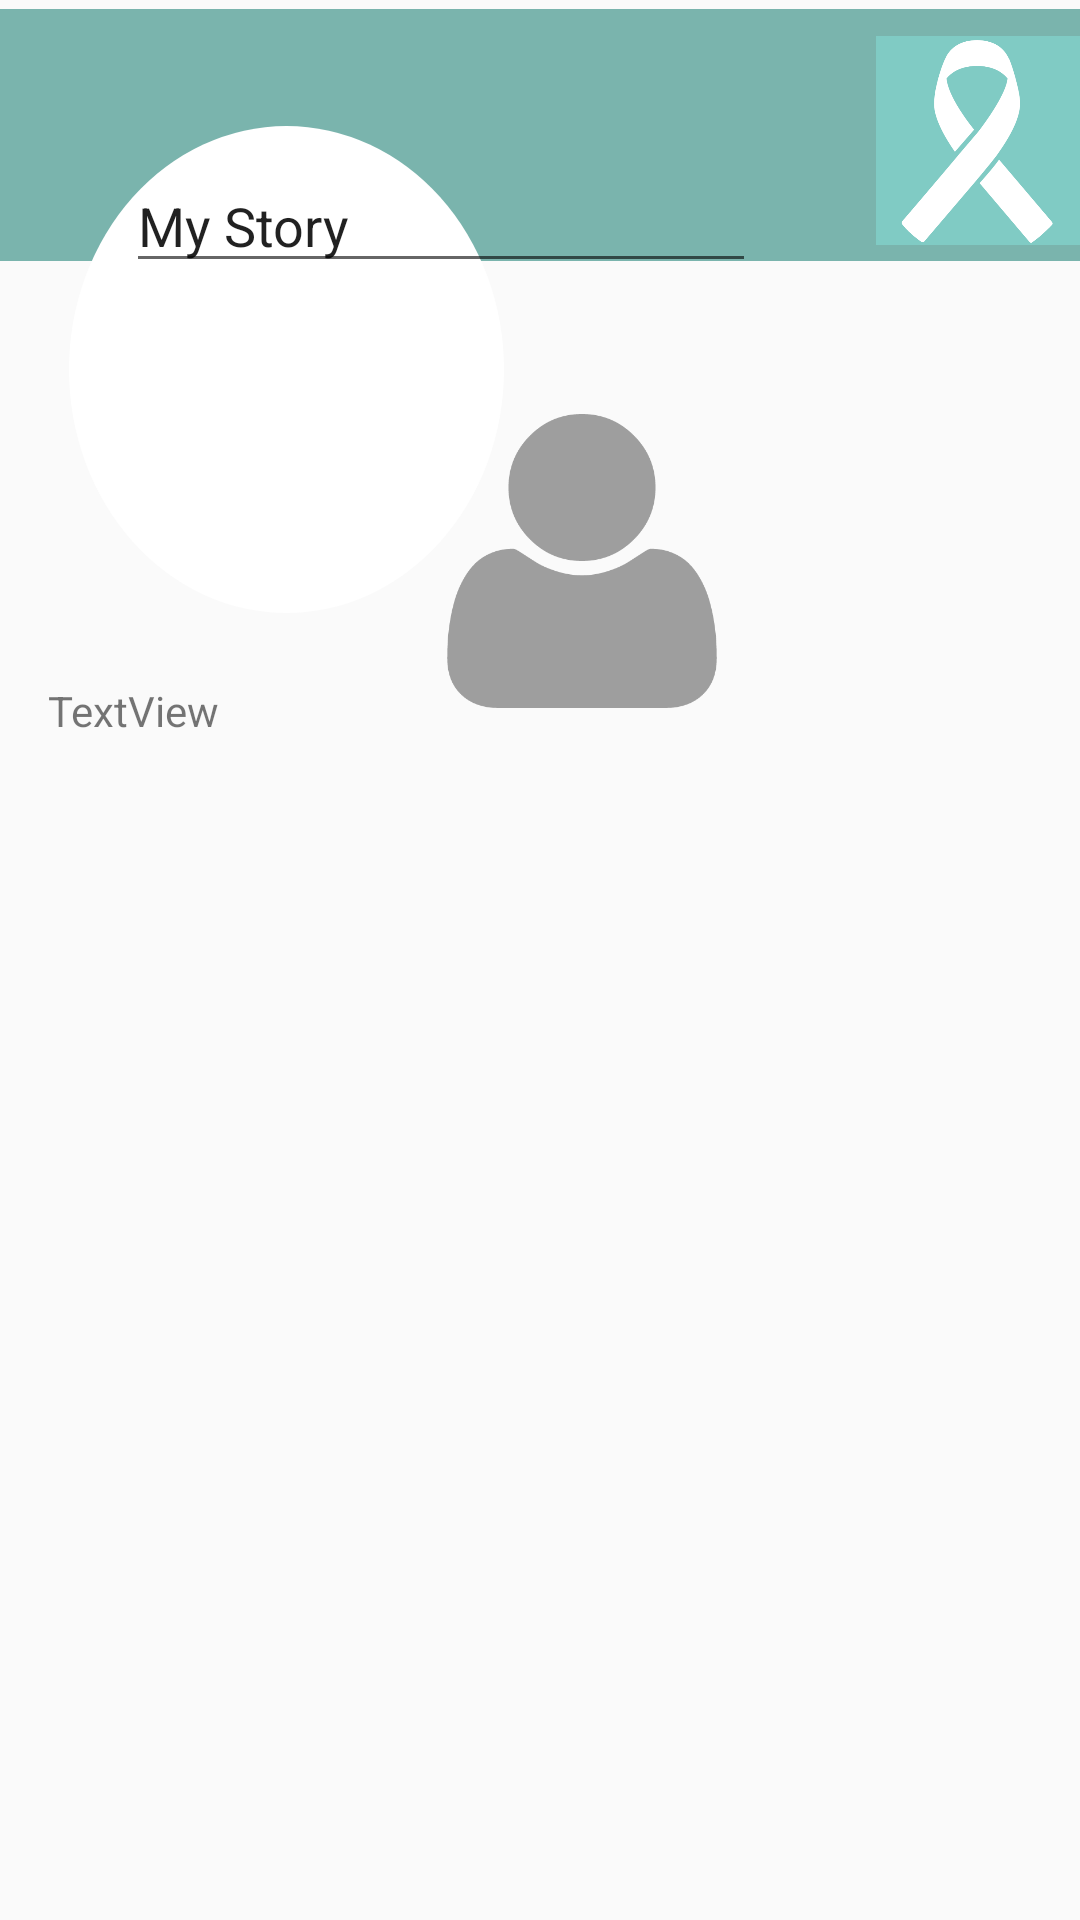

Point at icon controls on the screen. Image size 1080px x 1920px, points as [x,y].
user: [582,561]
